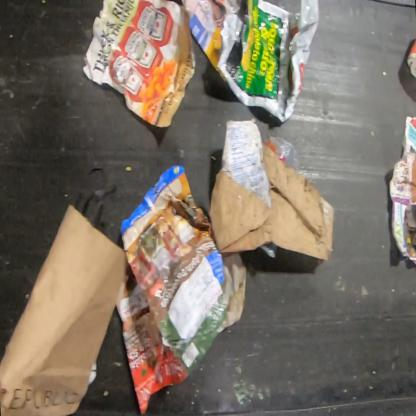cardboard: (1, 204, 126, 415), (208, 120, 334, 262)
rigid_plastic: (264, 134, 300, 174), (406, 38, 415, 81), (260, 241, 276, 258)
soft_plastic: (216, 0, 321, 124)
